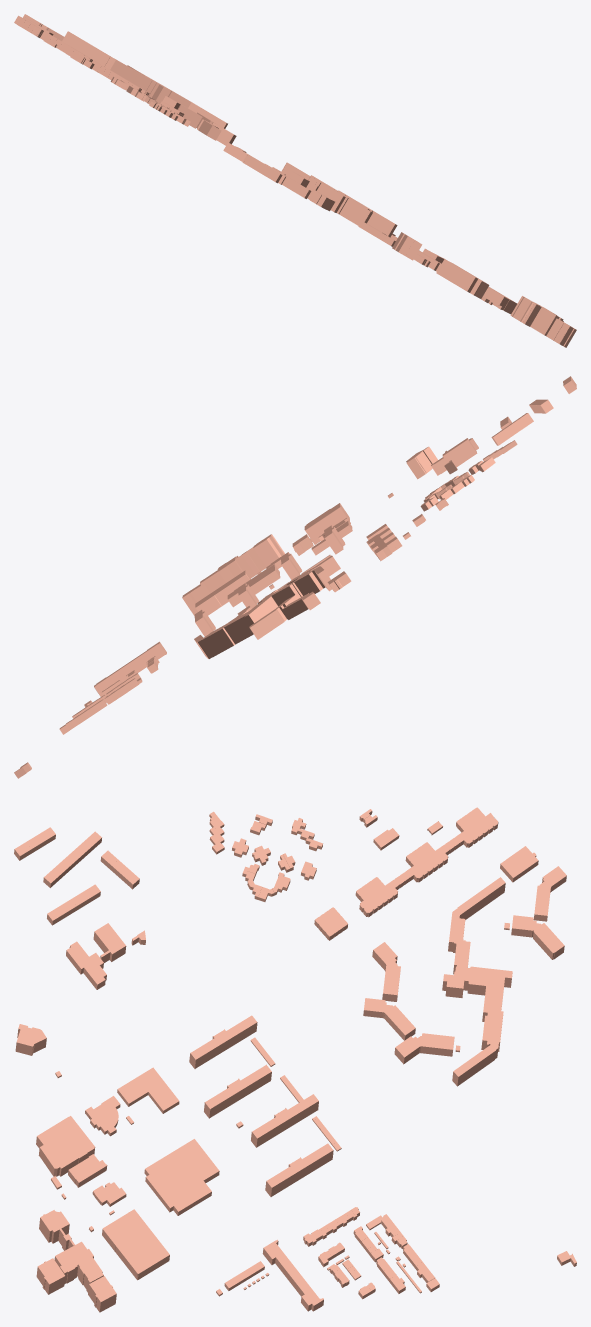
The picture shows the model from 3 angles, top to bottom: view 1: azimuth 30°, elevation 25°; view 2: azimuth 150°, elevation 25°; view 3: azimuth 270°, elevation 25°; orthographic projection. The views are drawn at different scales.
Size of the model in its own units: 534 by 392 by 630.
